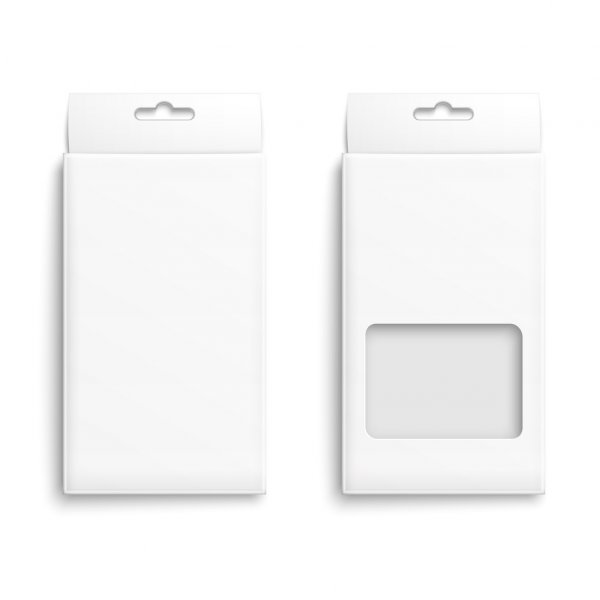PlasticBox: (54, 84, 278, 502), (334, 86, 556, 502)
